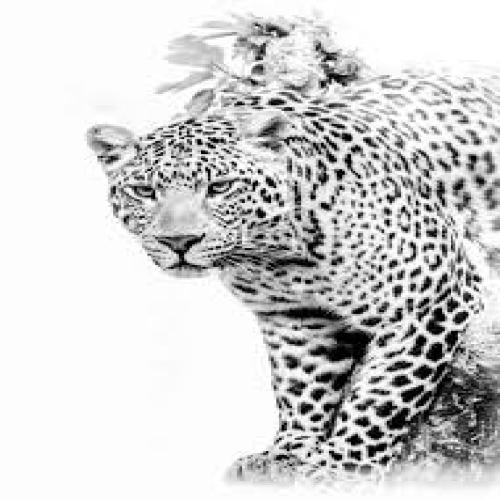jaguar_not-endangered: (97, 114, 475, 467)
